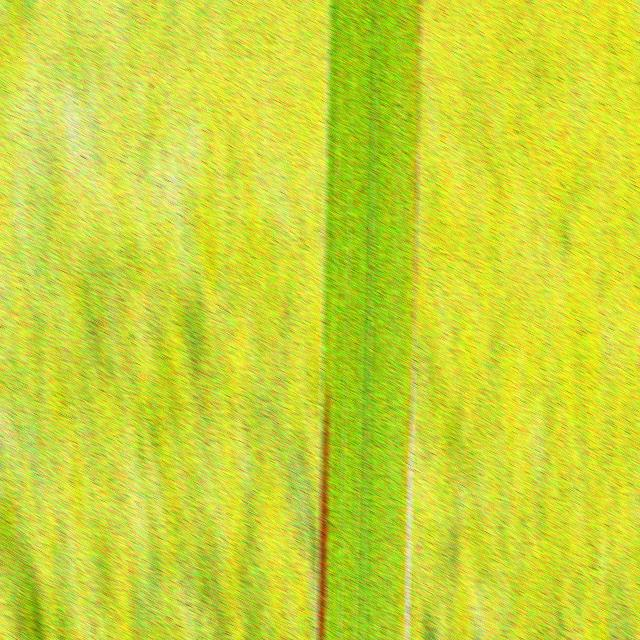NBS: (317, 384, 330, 640)
